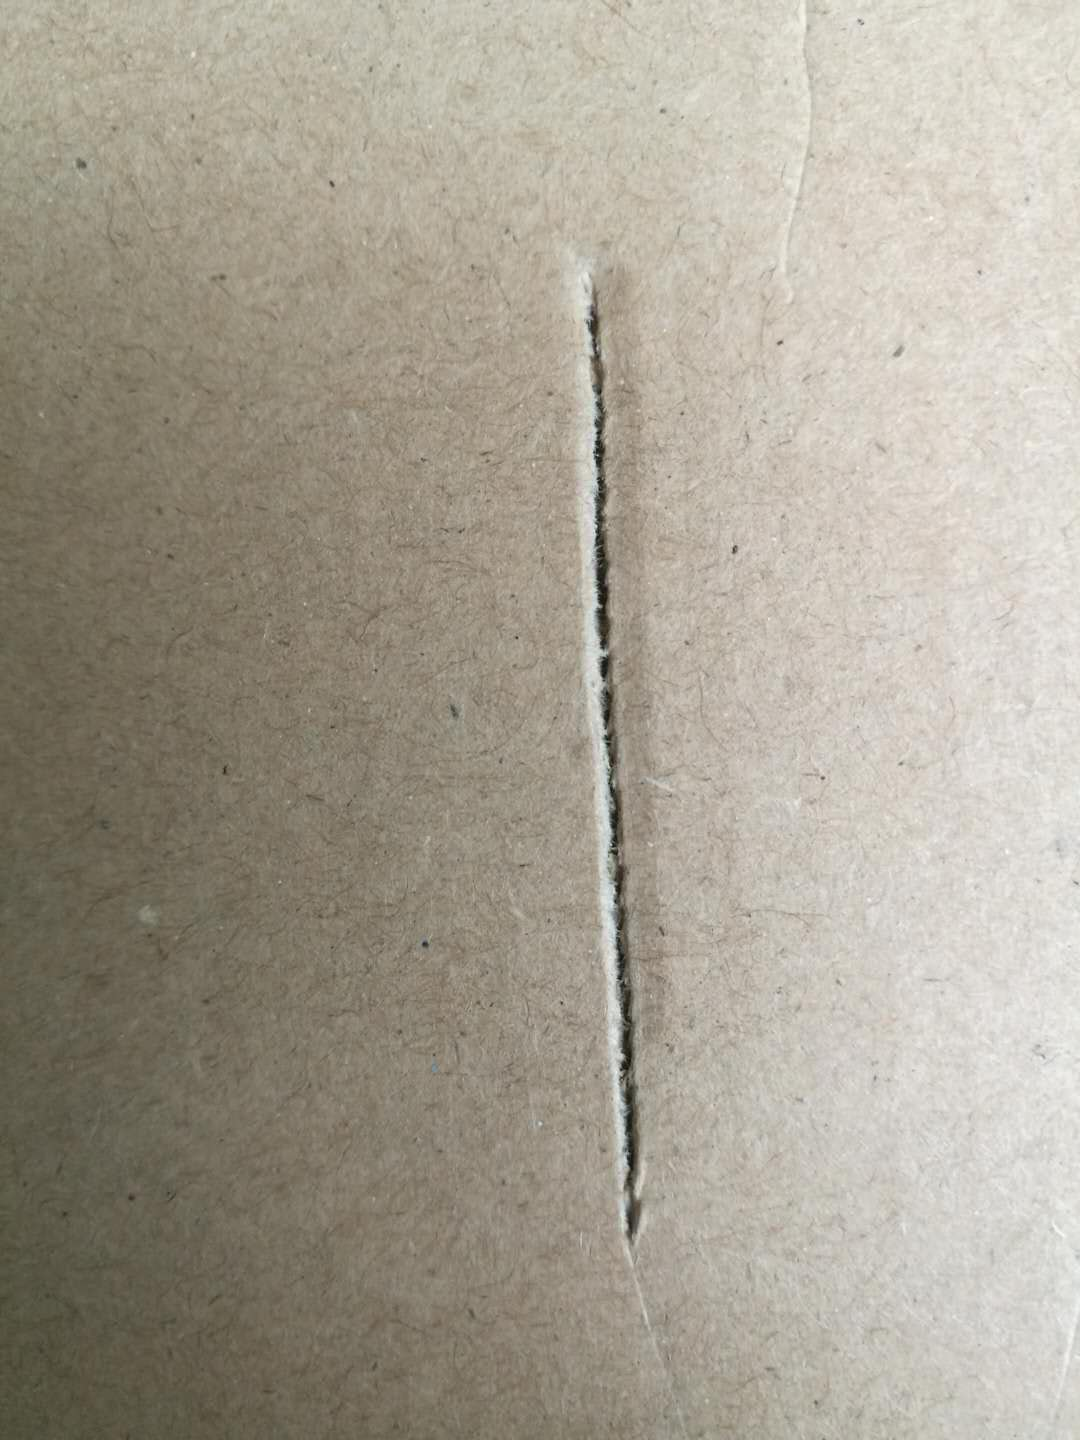defect: (475, 215, 726, 1424), (763, 2, 834, 300)
